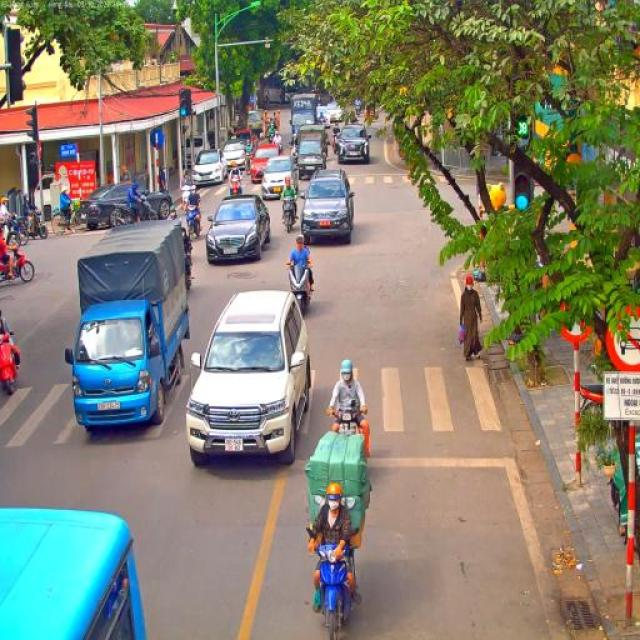bus: (0, 506, 146, 639), (504, 62, 616, 192)
car: (185, 288, 314, 468), (204, 193, 272, 264), (78, 181, 174, 231), (300, 167, 356, 245), (260, 154, 300, 200), (191, 148, 228, 191), (337, 123, 372, 165), (250, 143, 284, 183), (222, 136, 252, 175), (246, 111, 264, 137), (326, 102, 343, 123), (316, 106, 332, 128), (232, 128, 252, 144)
motorcycle: (304, 522, 358, 640), (327, 397, 368, 438), (286, 260, 314, 315), (0, 242, 35, 284), (0, 332, 21, 396), (117, 197, 155, 227), (8, 215, 48, 241), (0, 214, 30, 246), (281, 198, 298, 234), (186, 206, 202, 240), (182, 250, 194, 290), (178, 185, 192, 213), (228, 176, 243, 195), (332, 134, 342, 155), (246, 150, 254, 172), (271, 140, 284, 152), (356, 104, 362, 117)
truck: (64, 218, 192, 432), (291, 124, 327, 180), (286, 93, 318, 137), (258, 70, 286, 104)
